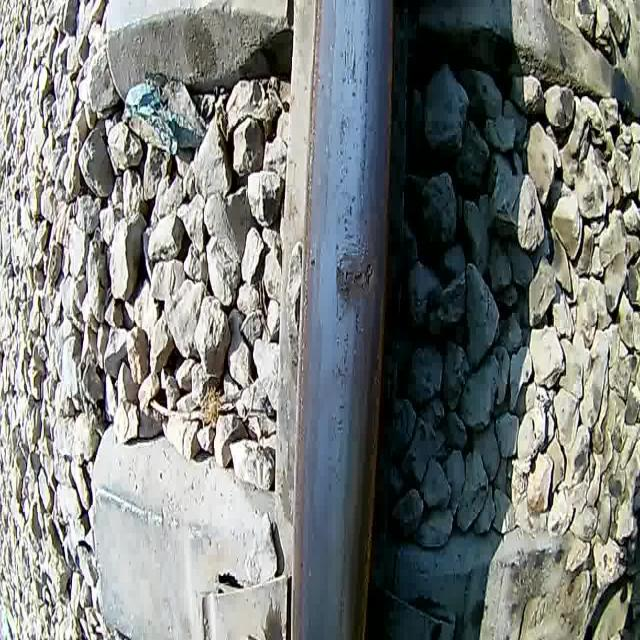Squats: (333, 245, 380, 312)
